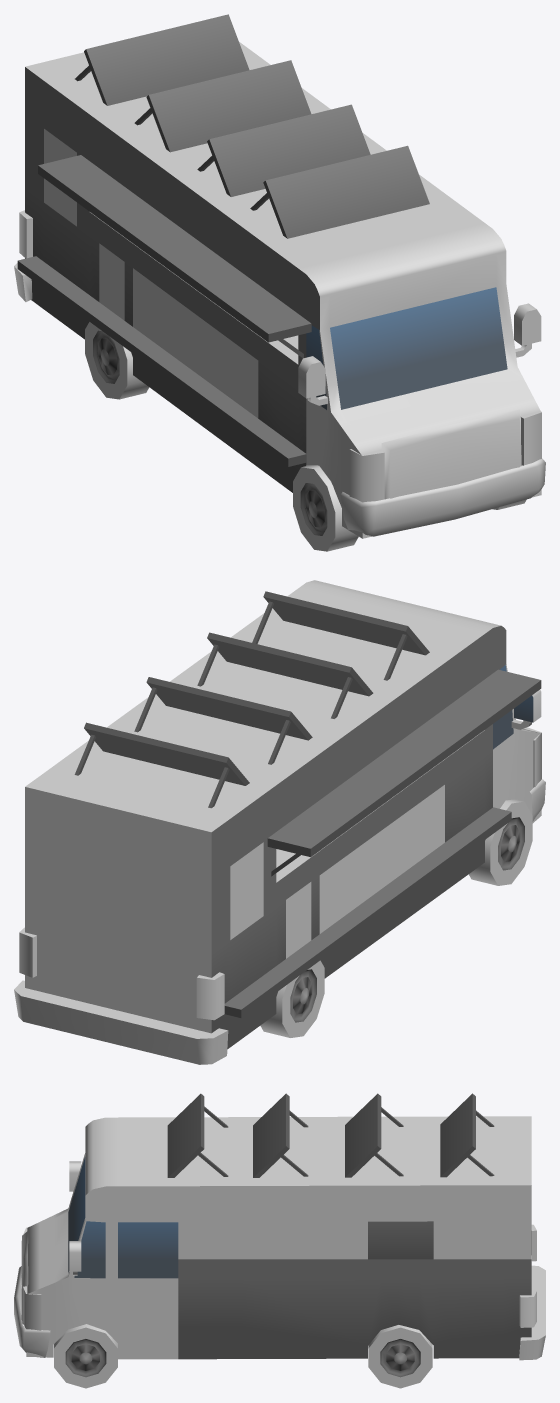
File: vehicles-trucks-vans-solar-van_v1.glb
3 renders of one model, top to bottom at view 1: azimuth 30°, elevation 25°; view 2: azimuth 150°, elevation 25°; view 3: azimuth 270°, elevation 25°, orthographic. The views are drawn at different scales.
Visible parts, largest first — view 1: Solar Van; view 2: Solar Van; view 3: Solar Van.
Boxes of the visible parts, <box> form: Solar Van: <box>14,14,545,551</box>; Solar Van: <box>14,580,545,1064</box>; Solar Van: <box>14,1093,545,1388</box>.
Bounding box in the file's own units: 2.71 × 3.13 × 6.5.
